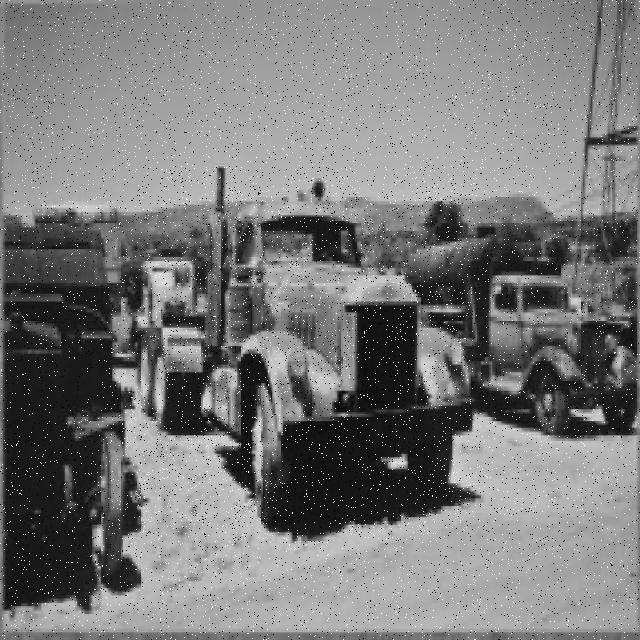Box Truck: (136, 167, 474, 534)
